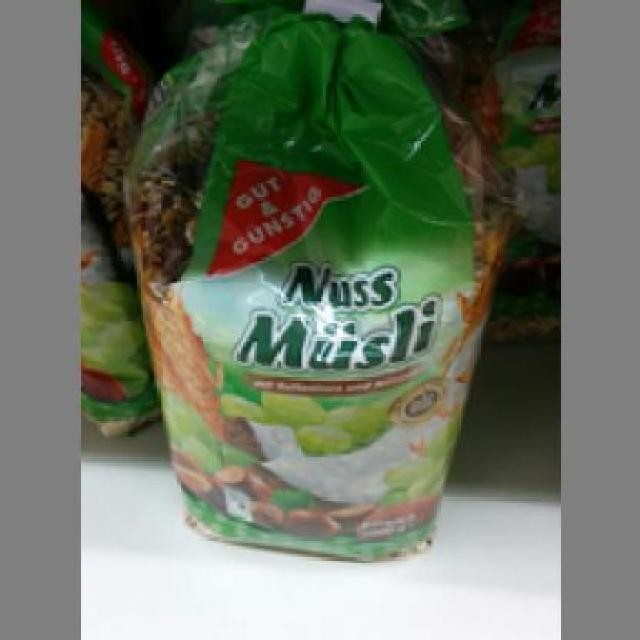Cereal: (110, 14, 507, 557)
